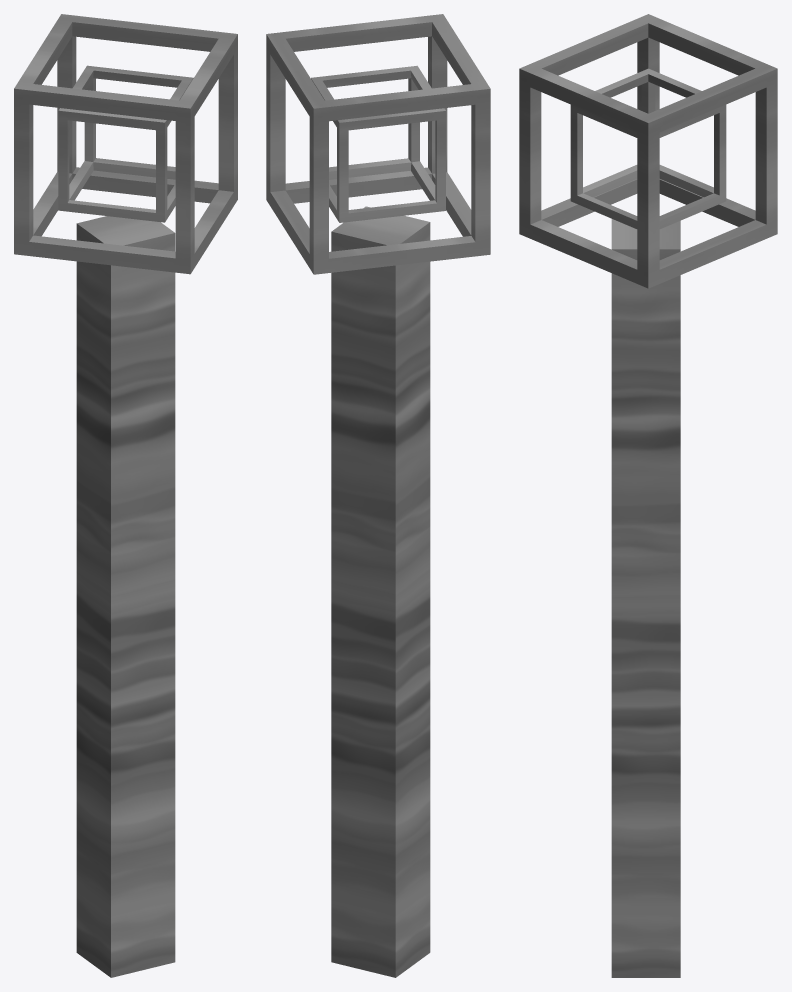
Rendered from palace4.dae.
3 renders of one model, left to right at view 1: azimuth 30°, elevation 25°; view 2: azimuth 150°, elevation 25°; view 3: azimuth 270°, elevation 25°, orthographic.
Parts seen in each view (by area): view 1: palace4; view 2: palace4; view 3: palace4.
Boxes of the visible parts, x1,y1,x2,y2 form: palace4: [14, 14, 237, 977]; palace4: [266, 14, 490, 977]; palace4: [519, 14, 777, 977].
Bounding box in the file's own units: 0.99 × 0.99 × 3.78.
Materials: 1 (1 with a texture image).
